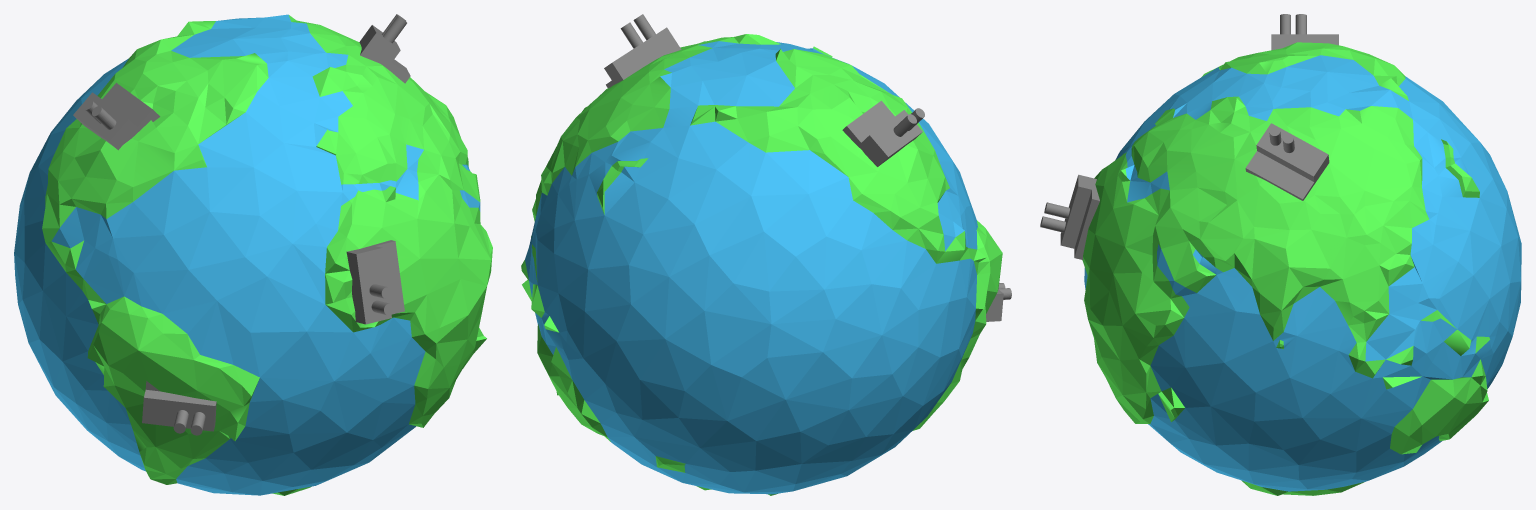
Rendered from earth2.gltf.
3 renders of one model, left to right at view 1: azimuth 30°, elevation 25°; view 2: azimuth 150°, elevation 25°; view 3: azimuth 270°, elevation 25°, orthographic. The views are drawn at different scales.
Parts seen in each view (by area): view 1: Icosphere001, Cube (×4); view 2: Icosphere001, Cube (×3); view 3: Icosphere001, Cube (×3).
Boxes of the visible parts, <box> form: Icosphere001: <box>14,14,492,495</box>; Cube (×4): <box>73,14,410,435</box>; Icosphere001: <box>521,34,1002,495</box>; Cube (×3): <box>604,14,1011,321</box>; Icosphere001: <box>1082,42,1521,495</box>; Cube (×3): <box>1040,14,1338,259</box>.
Bounding box in the file's own units: 10.06 × 10.28 × 10.94.
